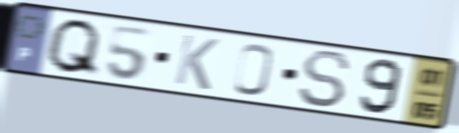0: (232, 43, 277, 98)
5: (103, 21, 152, 83)
9: (358, 57, 405, 116)
K: (171, 31, 222, 93)
Q: (42, 16, 104, 80)
S: (296, 47, 354, 110)
